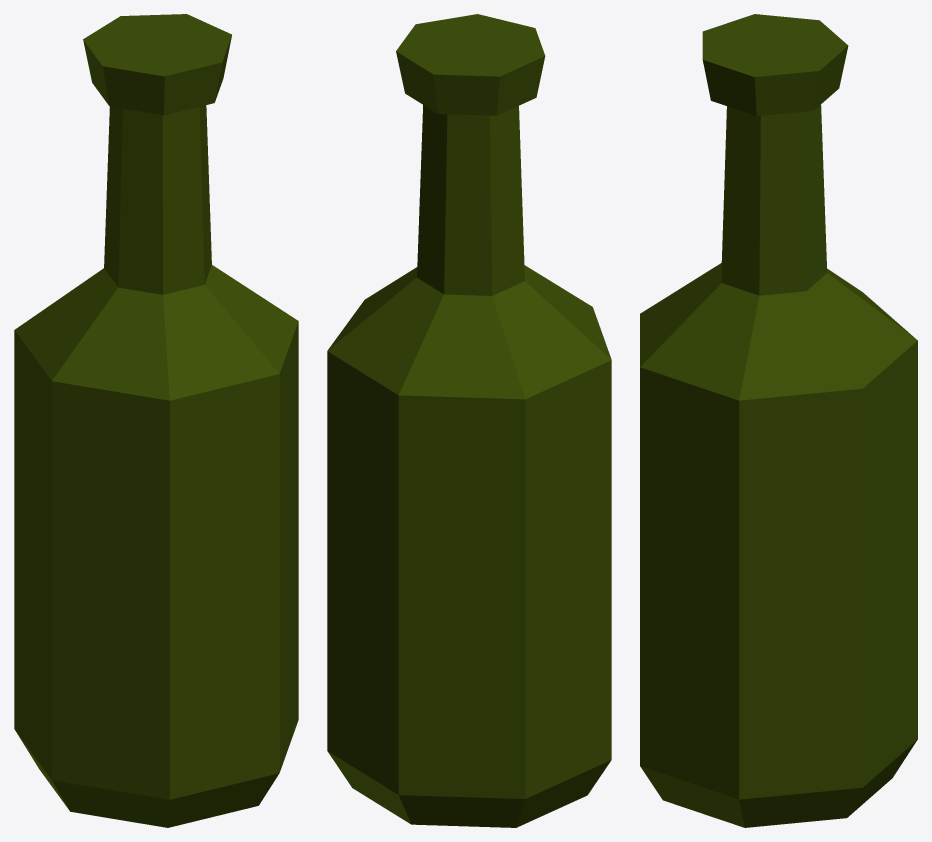
Rendered from LP_PostApoc_GlassBottleA.fbx.
3 renders of one model, left to right at view 1: azimuth 30°, elevation 25°; view 2: azimuth 150°, elevation 25°; view 3: azimuth 270°, elevation 25°, orthographic.
Visible parts, largest first — view 1: GlassBottleA; view 2: GlassBottleA; view 3: GlassBottleA.
Part boxes in pixels (left/top/right/bottom): GlassBottleA: left=14, top=14, right=298, bottom=827; GlassBottleA: left=327, top=14, right=611, bottom=827; GlassBottleA: left=640, top=14, right=917, bottom=827.
Bounding box in the file's own units: 13.11 × 37.2 × 12.78.
